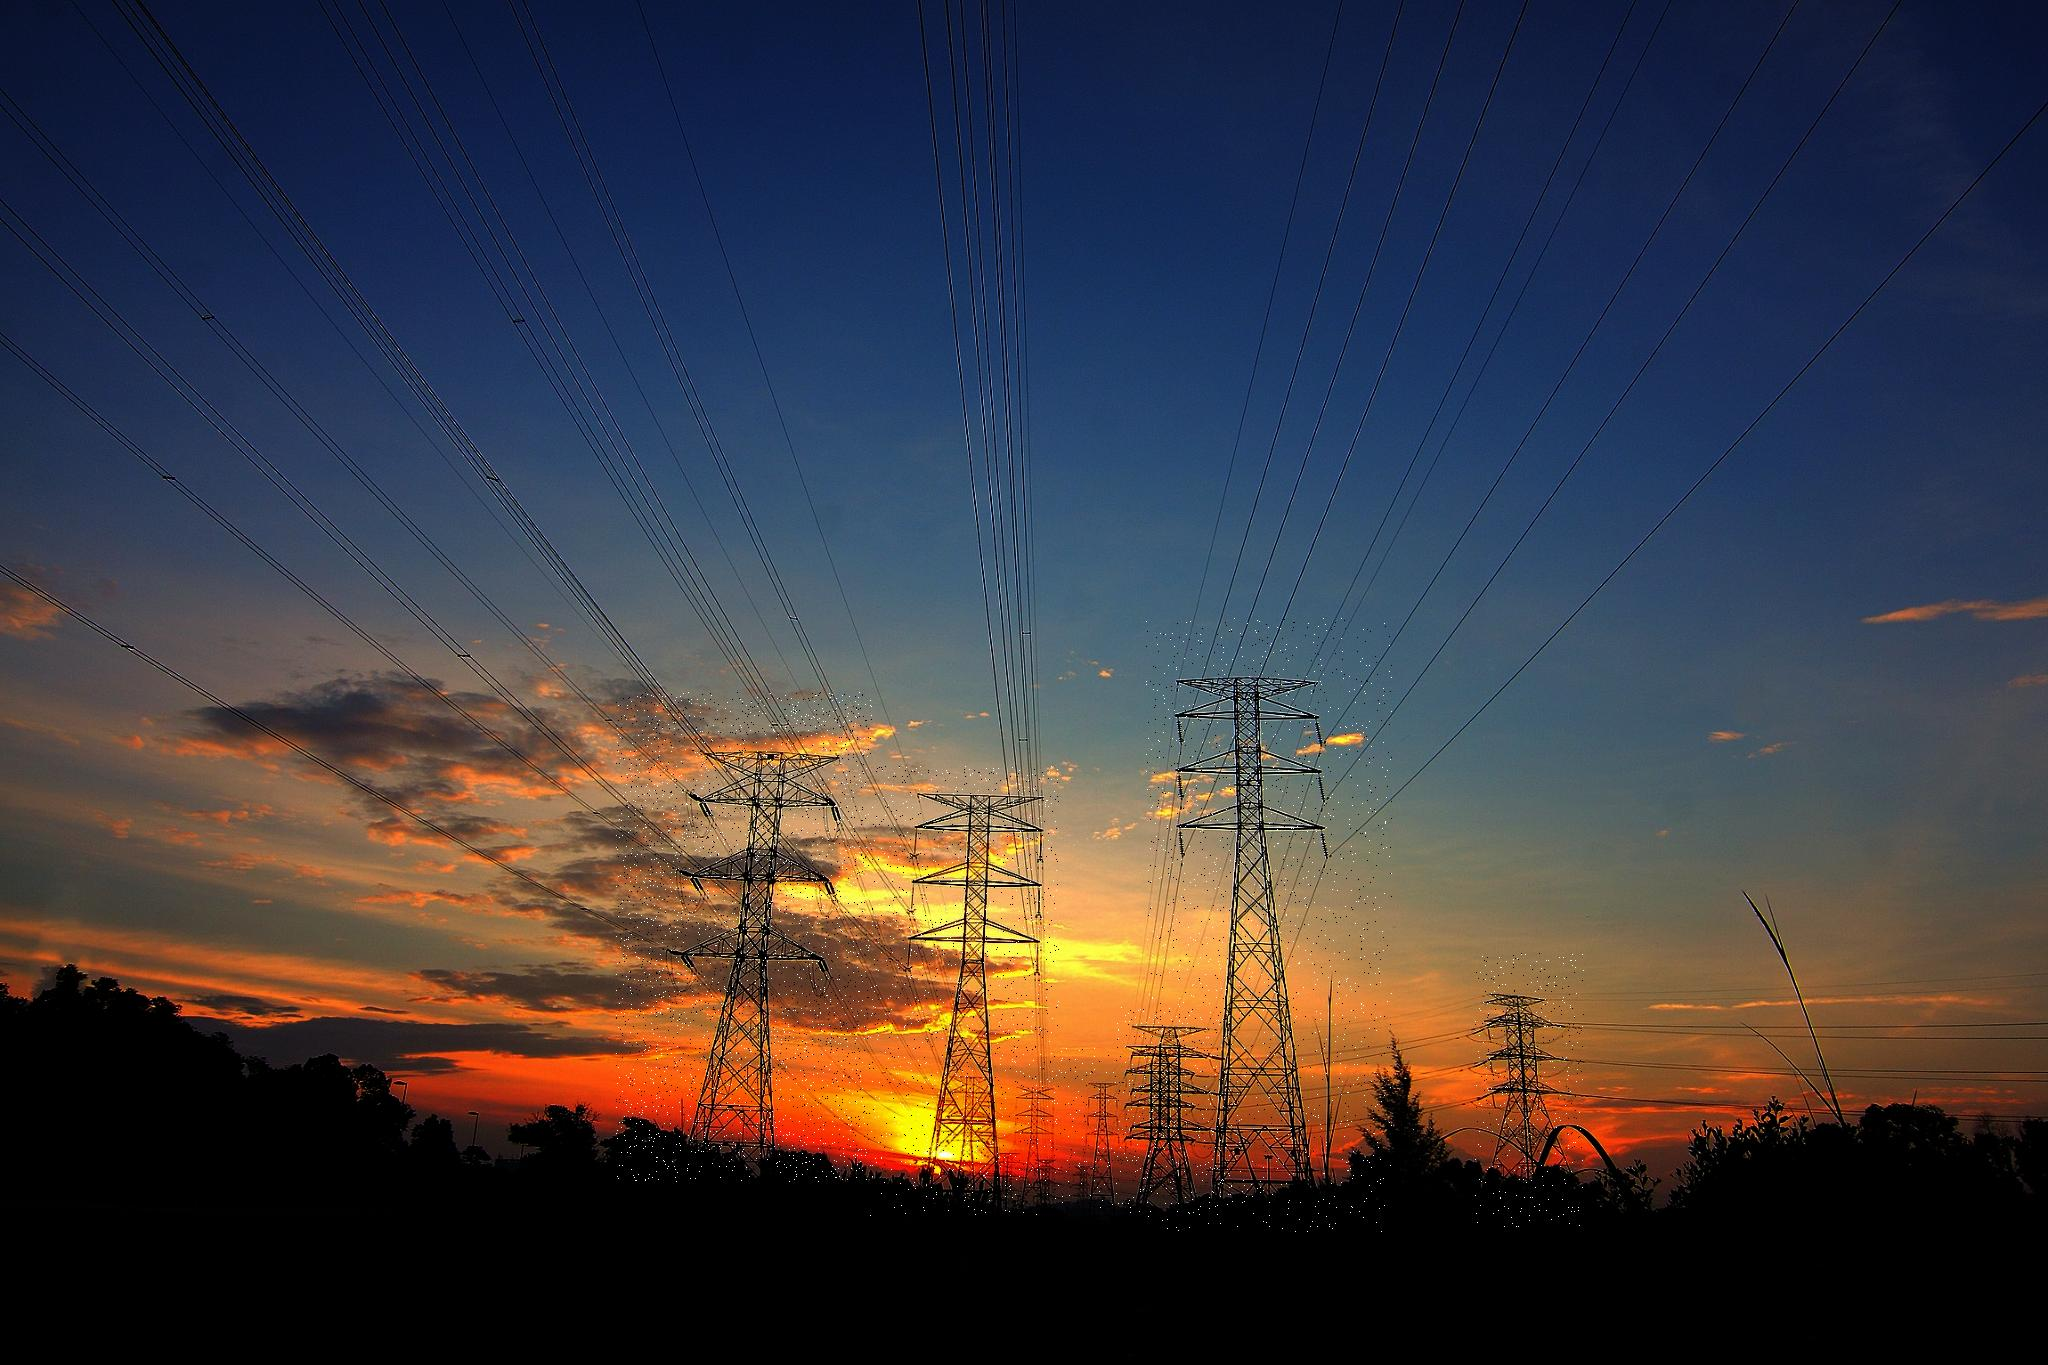cable tower: (1147, 619, 1392, 1232), (617, 692, 872, 1182), (866, 766, 1058, 1216), (1474, 954, 1584, 1226), (1116, 1007, 1239, 1213), (1058, 1048, 1134, 1213), (1006, 1079, 1061, 1207)
